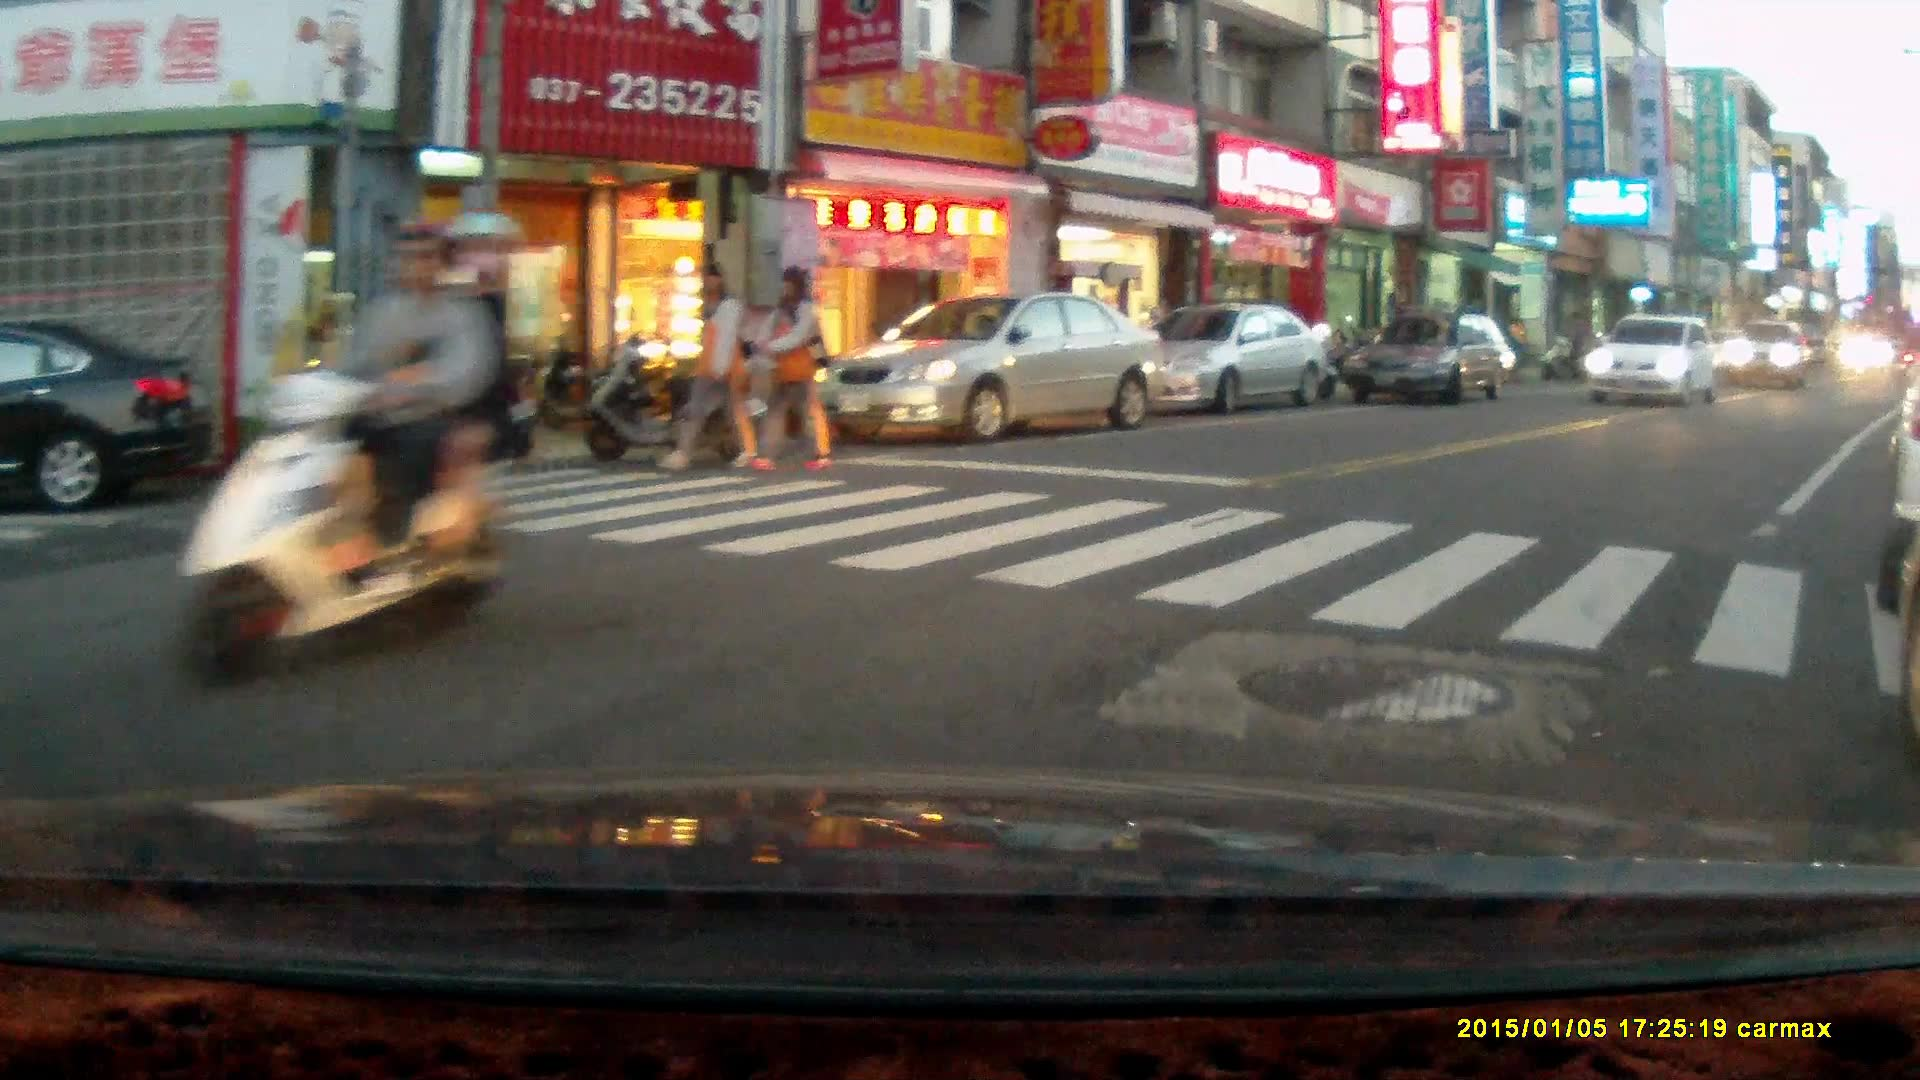pedestrian: (655, 258, 759, 470), (746, 261, 833, 474)
rider: (172, 208, 518, 700)
vehicle: (812, 294, 1167, 443), (1, 314, 208, 515), (1109, 302, 1332, 414), (1342, 313, 1522, 405), (1581, 315, 1722, 404), (1715, 319, 1815, 391), (1833, 330, 1890, 378)
